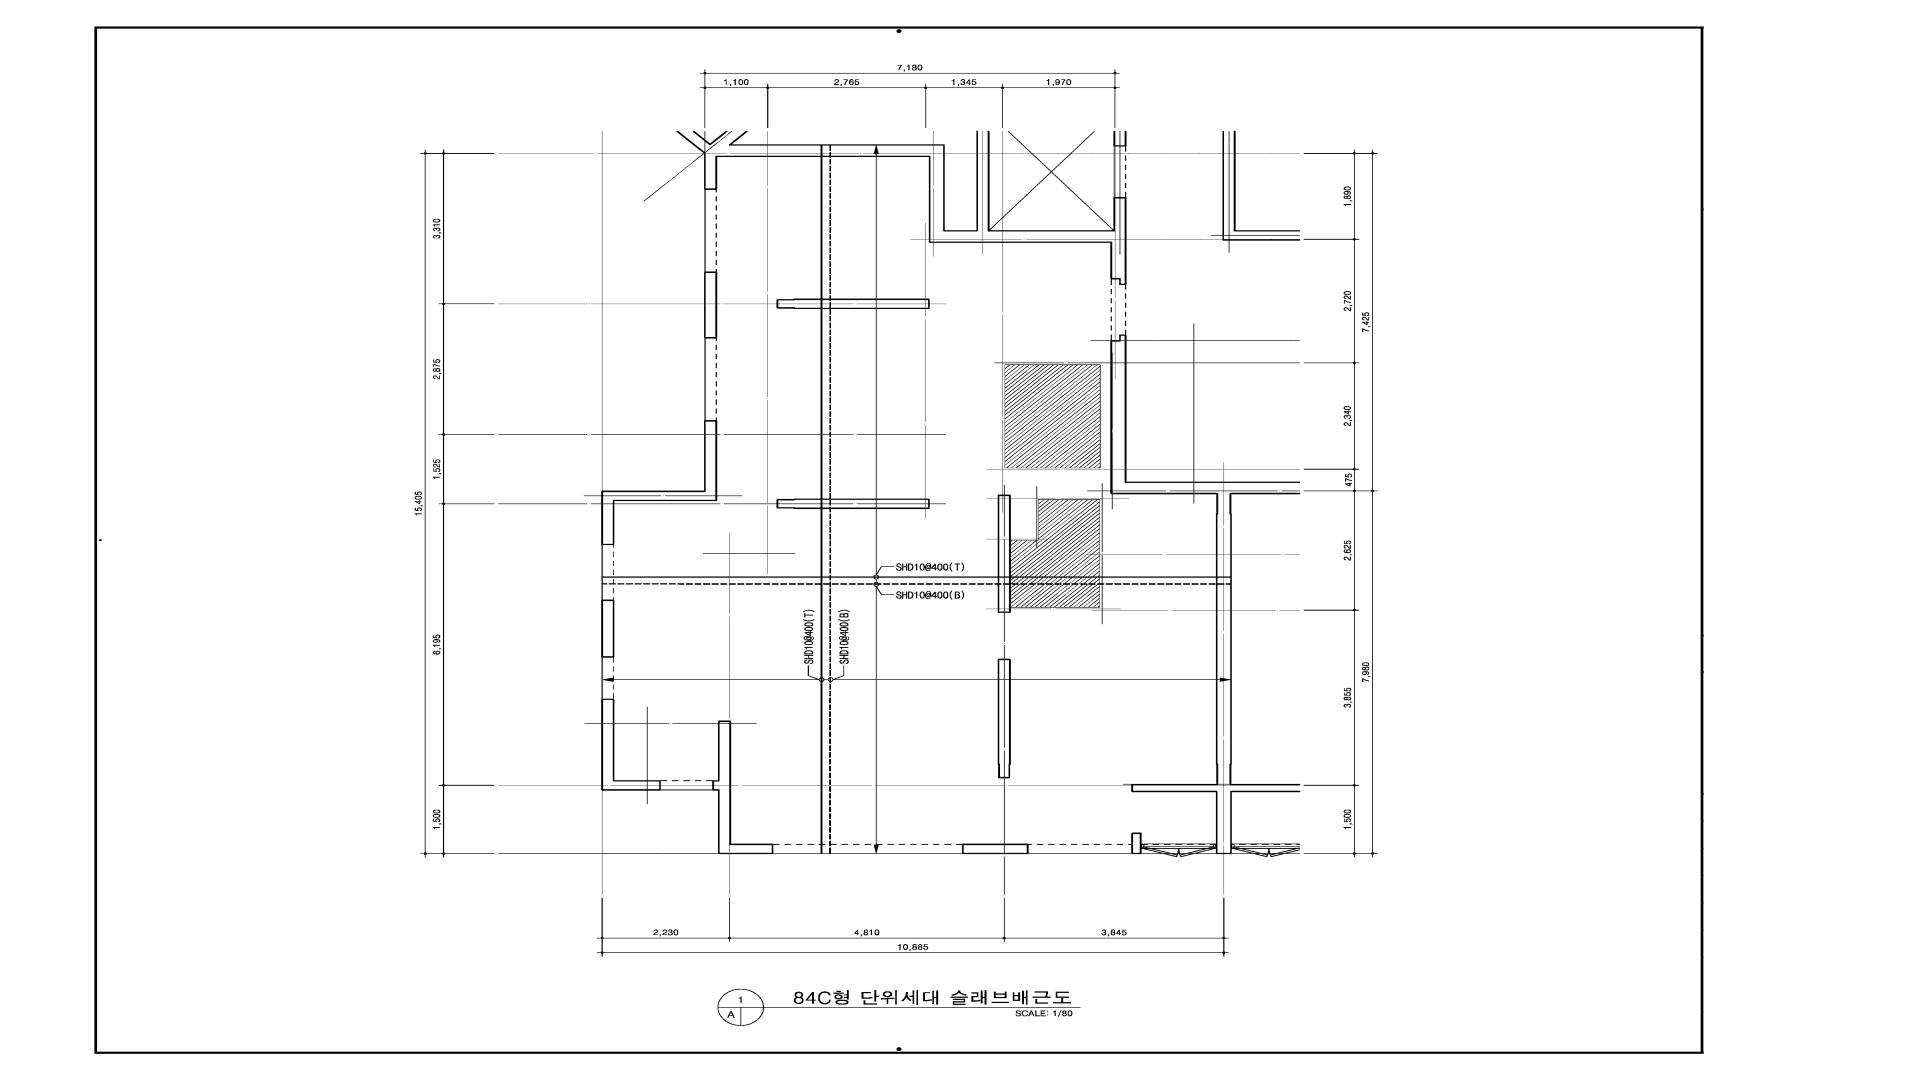wall: (1110, 335, 1300, 576), (1131, 584, 1300, 855), (831, 131, 1126, 285), (601, 421, 717, 545), (1222, 131, 1300, 241), (675, 131, 820, 190), (712, 721, 773, 855), (820, 145, 831, 853), (601, 699, 661, 791), (831, 576, 1232, 584), (601, 576, 820, 584), (998, 659, 1010, 778), (831, 298, 930, 309), (831, 498, 930, 509), (998, 495, 1010, 576), (704, 272, 717, 338), (601, 600, 615, 658), (963, 844, 1029, 855), (777, 498, 820, 509), (777, 298, 820, 309), (998, 584, 1011, 613), (1131, 832, 1142, 855), (1113, 131, 1126, 146)
window: (1142, 844, 1216, 857), (1232, 844, 1300, 857)
